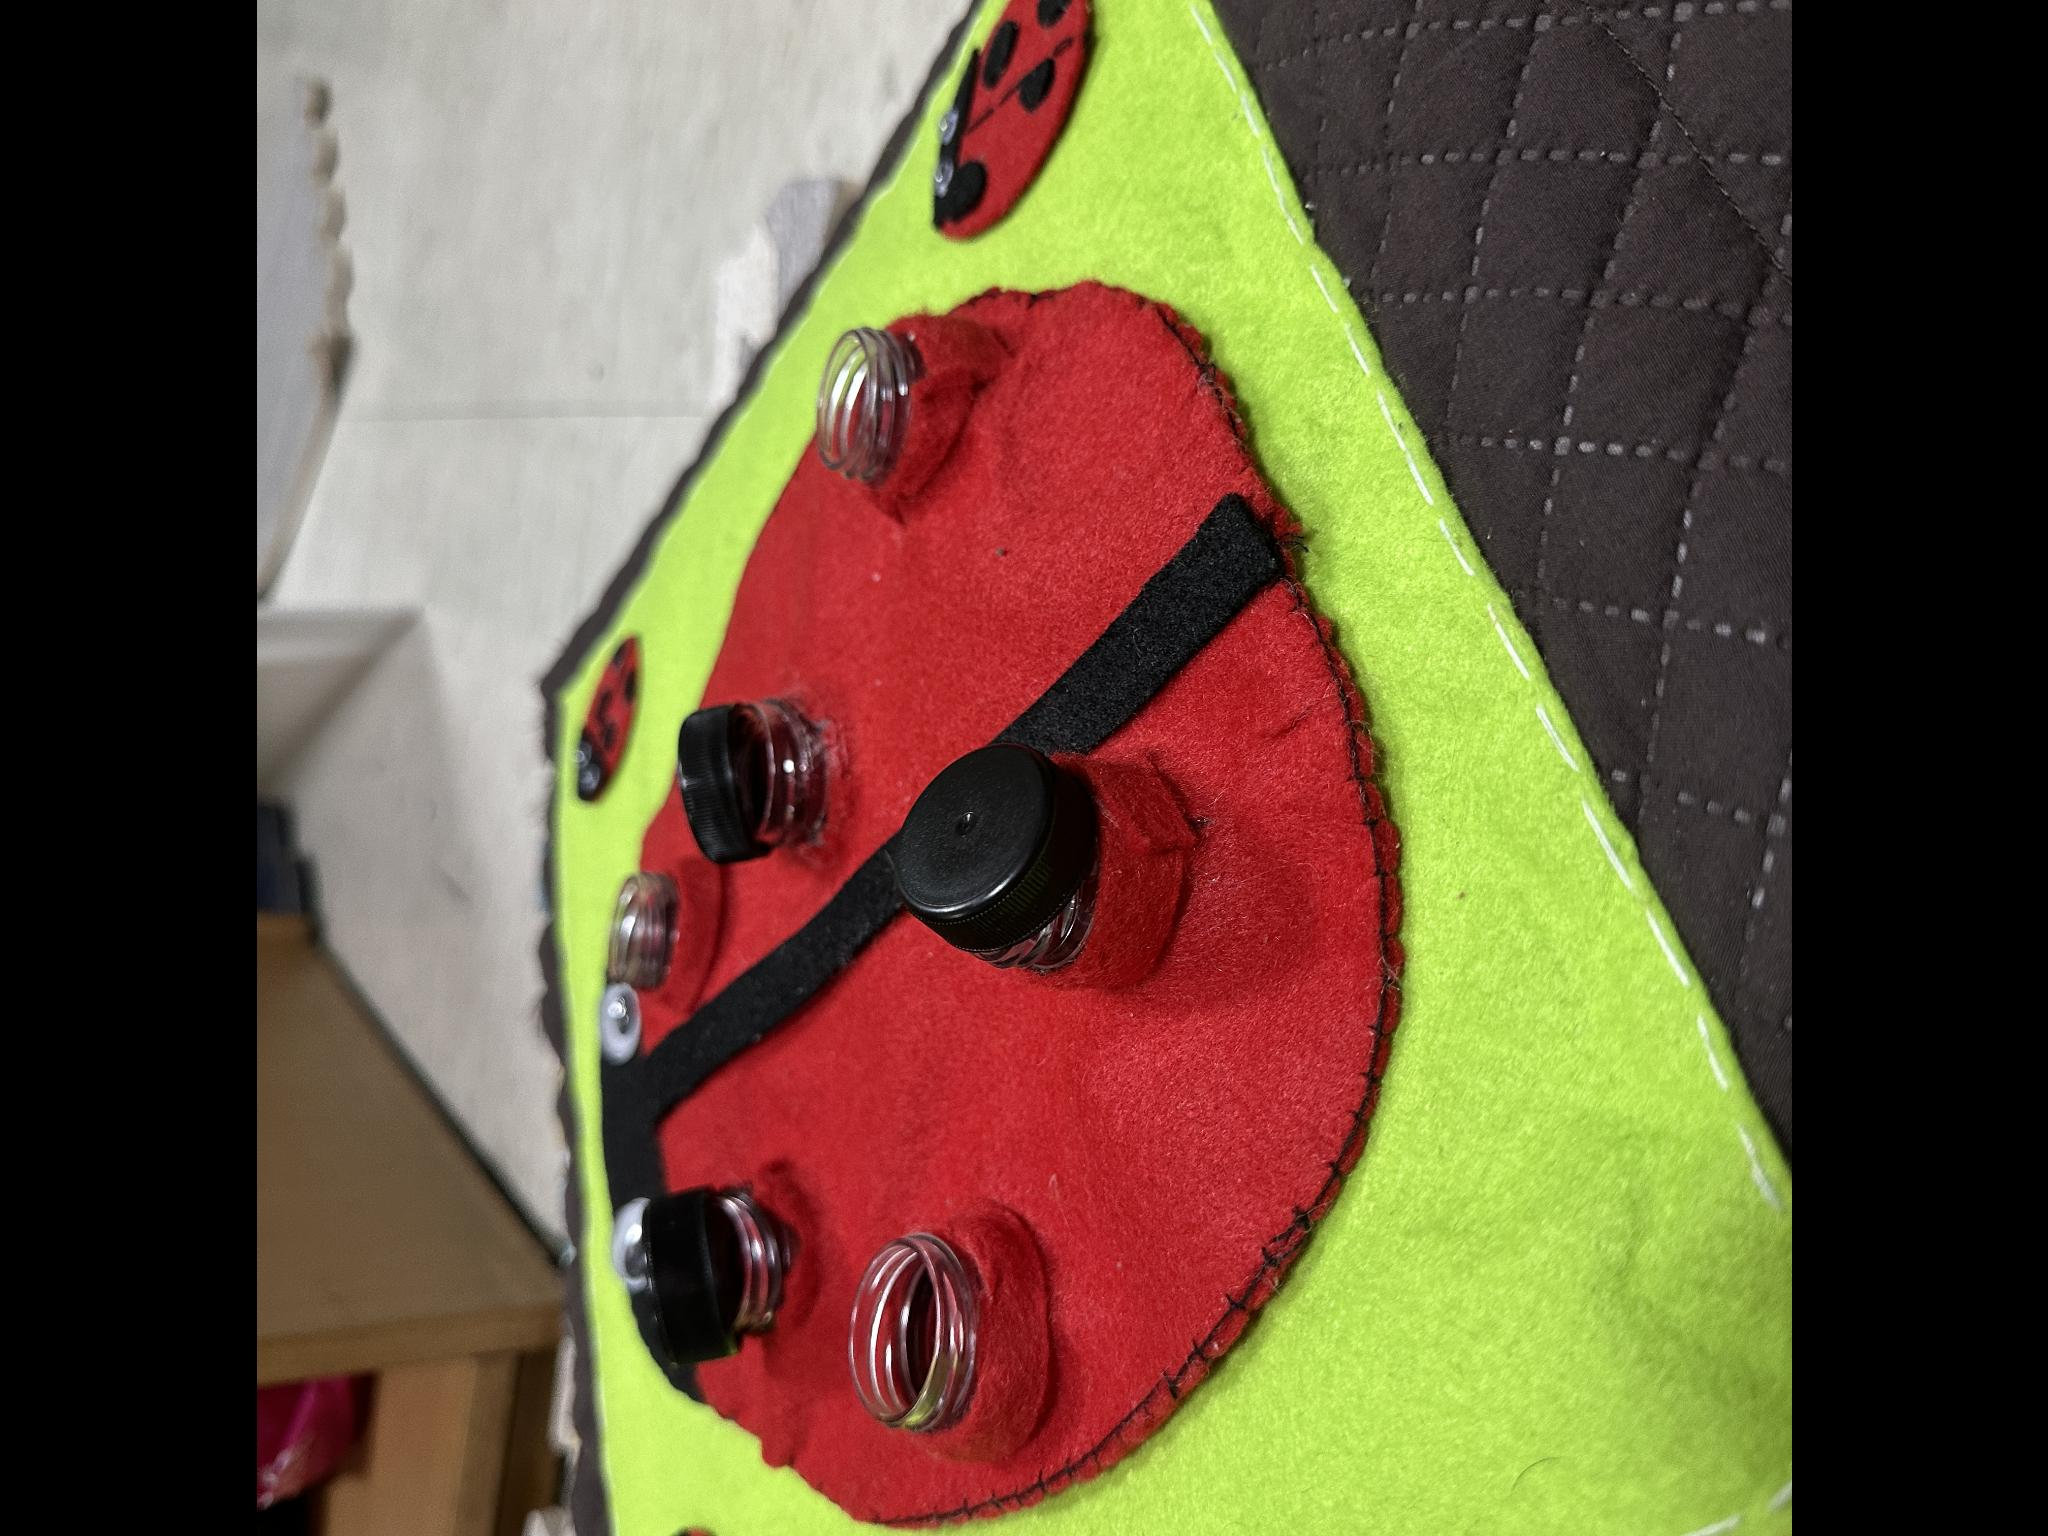cap_ng: (884, 726, 1216, 1012), (622, 1160, 826, 1368), (663, 671, 848, 871)
